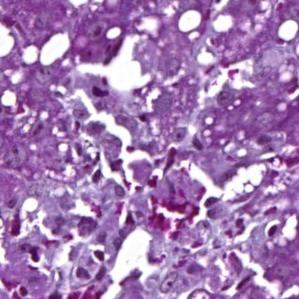inflammation: (80, 66, 117, 108)
